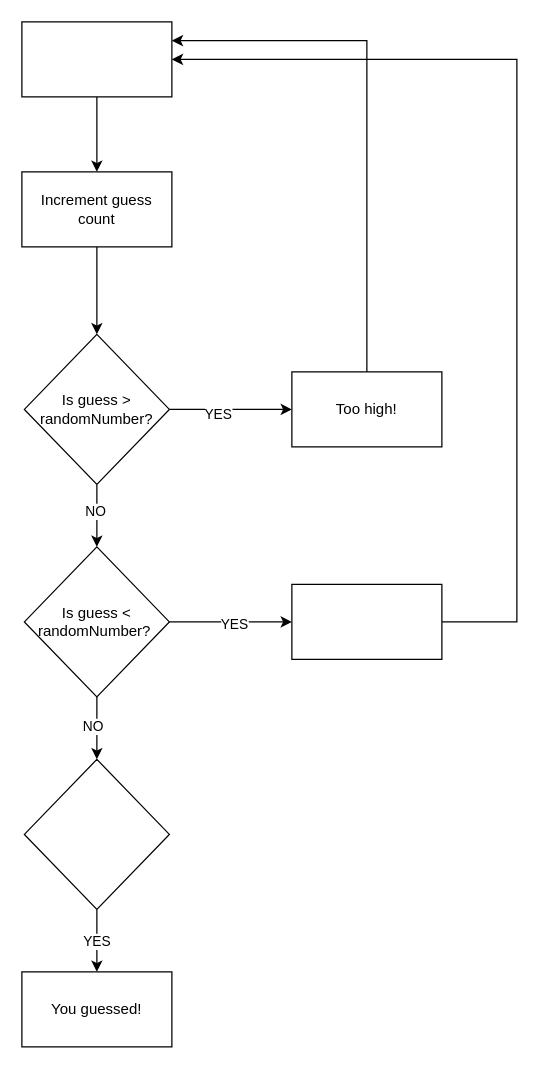
This 549x1069 diagram has some shape labels left out. The centre of each missing label's shape, as x and y in pixels:
"Guess the number" goes at point (96, 59).
"Is guess === randomNumber?" goes at point (96, 833).
"Too low!" goes at point (366, 621).
